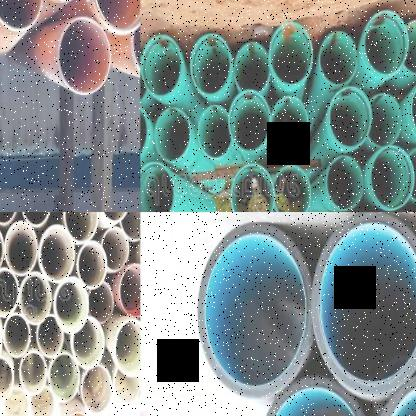pipe: (197, 224, 312, 399), (312, 212, 416, 395), (256, 376, 370, 416), (58, 18, 112, 94), (369, 146, 415, 209), (364, 11, 408, 75), (270, 22, 313, 85), (140, 35, 182, 96), (229, 89, 270, 151), (330, 87, 372, 147), (190, 34, 231, 95), (230, 163, 275, 212), (38, 225, 75, 283), (320, 31, 358, 85), (53, 277, 89, 334), (327, 156, 364, 210), (272, 96, 309, 150), (154, 107, 190, 162), (4, 221, 38, 276), (367, 94, 402, 146), (234, 42, 270, 92), (198, 105, 231, 159), (274, 165, 311, 212), (140, 162, 174, 212), (19, 272, 51, 325), (47, 352, 80, 403), (72, 318, 105, 368), (93, 0, 140, 33), (81, 364, 112, 414), (77, 241, 107, 290), (115, 319, 140, 376), (2, 313, 31, 358), (36, 313, 64, 359), (20, 350, 47, 396), (0, 0, 42, 29), (118, 264, 140, 319), (101, 228, 129, 271), (88, 281, 114, 325), (64, 212, 98, 242), (113, 366, 140, 403), (0, 268, 19, 317), (29, 384, 54, 416), (402, 19, 416, 75), (3, 385, 28, 416), (0, 355, 14, 402), (132, 3, 140, 82), (119, 212, 140, 241), (408, 146, 416, 203), (21, 212, 51, 226), (140, 52, 148, 103), (411, 77, 416, 140)
